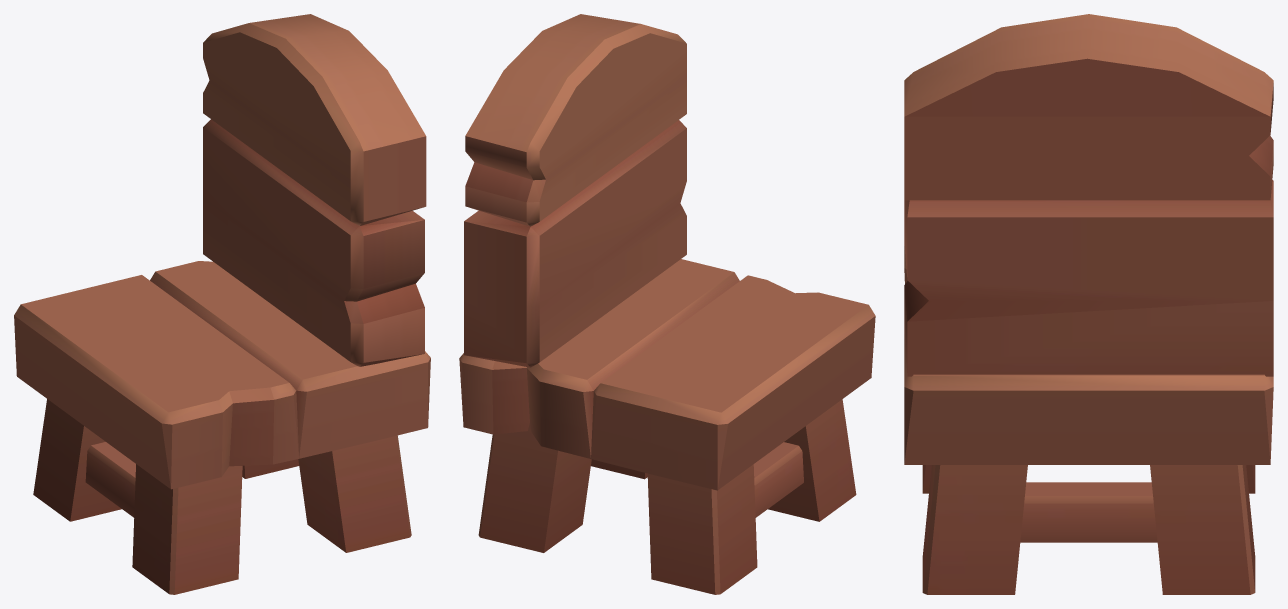
File: chair.gltf.glb
3 renders of one model, left to right at view 1: azimuth 30°, elevation 25°; view 2: azimuth 150°, elevation 25°; view 3: azimuth 270°, elevation 25°, orthographic. The views are drawn at different scales.
Visible parts, largest first — view 1: chair; view 2: chair; view 3: chair.
Boxes of the visible parts, bbox=[...] form: chair: bbox=[14, 14, 430, 594]; chair: bbox=[459, 14, 875, 594]; chair: bbox=[904, 14, 1273, 594].
Bounding box in the file's own units: 0.75 × 1.23 × 0.75.
Materials: 1 (1 with a texture image).
